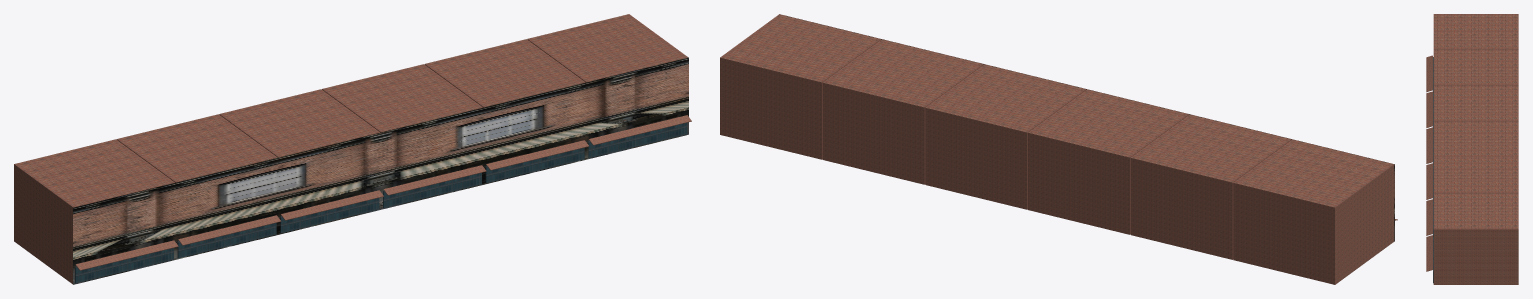
The model's file is woodward-row_lod0.gltf.
3 renders of one model, left to right at view 1: azimuth 30°, elevation 25°; view 2: azimuth 150°, elevation 25°; view 3: azimuth 270°, elevation 25°, orthographic. The views are drawn at different scales.
Visible parts, largest first — view 1: woodward-row_front, woodward-row_unit0, woodward-row_unit4, woodward-row_unit2, woodward-row_unit5, woodward-row_unit1, woodward-row_unit3, woodward-row__storefront1, woodward-row__storefront5, woodward-row__storefront4, woodward-row__storefront2, woodward-row__storefront3 (+7 smaller); view 2: woodward-row_unit0, woodward-row_unit1, woodward-row_unit4, woodward-row_unit5, woodward-row_unit3, woodward-row_unit2; view 3: woodward-row_unit5, woodward-row_unit4, woodward-row_unit0, woodward-row_unit1, woodward-row_unit2, woodward-row_unit3, woodward-row__awning0, woodward-row__awning4, woodward-row__awning1, woodward-row__awning2, woodward-row__awning3, woodward-row__awning5.
Boxes of the visible parts, box(x1,y1,x2,y2) form: woodward-row_front: box(73, 57, 688, 284); woodward-row_unit0: box(14, 139, 174, 284); woodward-row_unit4: box(424, 39, 585, 107); woodward-row_unit2: box(219, 89, 379, 157); woodward-row_unit5: box(527, 14, 687, 82); woodward-row_unit1: box(116, 114, 277, 182); woodward-row_unit3: box(322, 64, 482, 132); woodward-row__storefront1: box(177, 223, 276, 258); woodward-row__storefront5: box(588, 123, 687, 157); woodward-row__storefront4: box(485, 147, 584, 183); woodward-row__storefront2: box(280, 198, 379, 233); woodward-row__storefront3: box(383, 173, 481, 208); woodward-row_unit0: box(1233, 139, 1394, 284); woodward-row_unit1: box(1130, 114, 1291, 259); woodward-row_unit4: box(822, 39, 983, 184); woodward-row_unit5: box(720, 14, 880, 159); woodward-row_unit3: box(925, 64, 1086, 209); woodward-row_unit2: box(1028, 89, 1188, 234); woodward-row_unit5: box(1433, 193, 1518, 284); woodward-row_unit4: box(1433, 157, 1518, 193); woodward-row_unit0: box(1433, 14, 1518, 49); woodward-row_unit1: box(1433, 50, 1518, 85); woodward-row_unit2: box(1433, 86, 1518, 121); woodward-row_unit3: box(1433, 122, 1518, 157); woodward-row__awning0: box(1426, 55, 1432, 92); woodward-row__awning4: box(1426, 199, 1432, 235); woodward-row__awning1: box(1426, 91, 1432, 127); woodward-row__awning2: box(1426, 127, 1432, 163); woodward-row__awning3: box(1426, 163, 1432, 199); woodward-row__awning5: box(1426, 235, 1432, 271).
Bounding box in the file's own units: 150 × 18 × 27.17.
